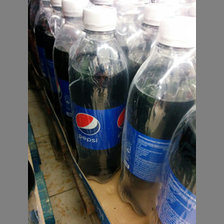soda: (119, 17, 196, 216), (70, 7, 130, 183)
